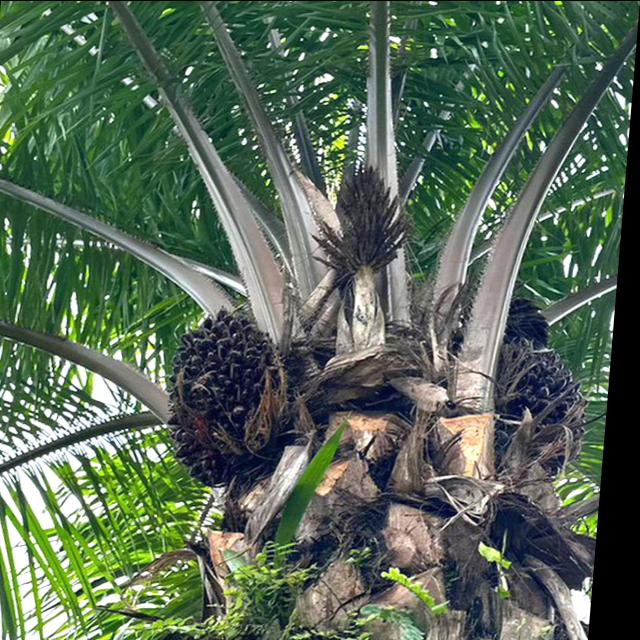almost: (160, 297, 316, 495)
